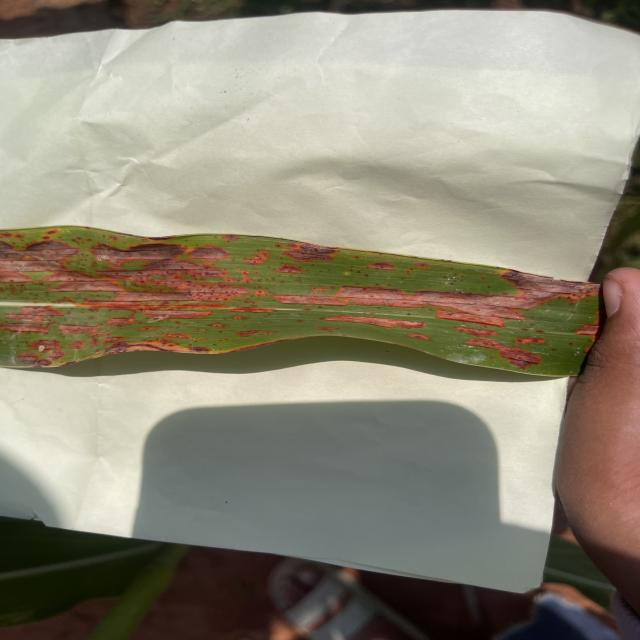millet_rust: (0, 226, 601, 376)
